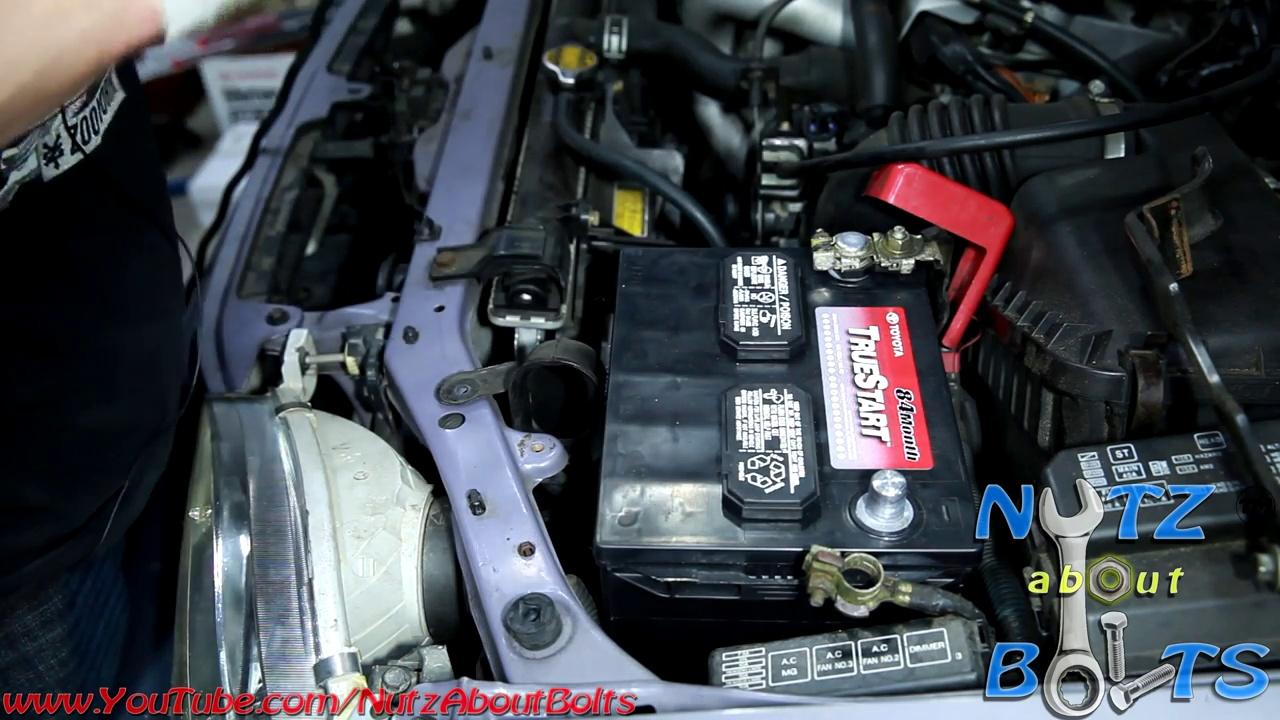battery: (602, 187, 976, 643)
neg_disconnected: (784, 455, 964, 632)
pos_connected: (801, 183, 1003, 330)
